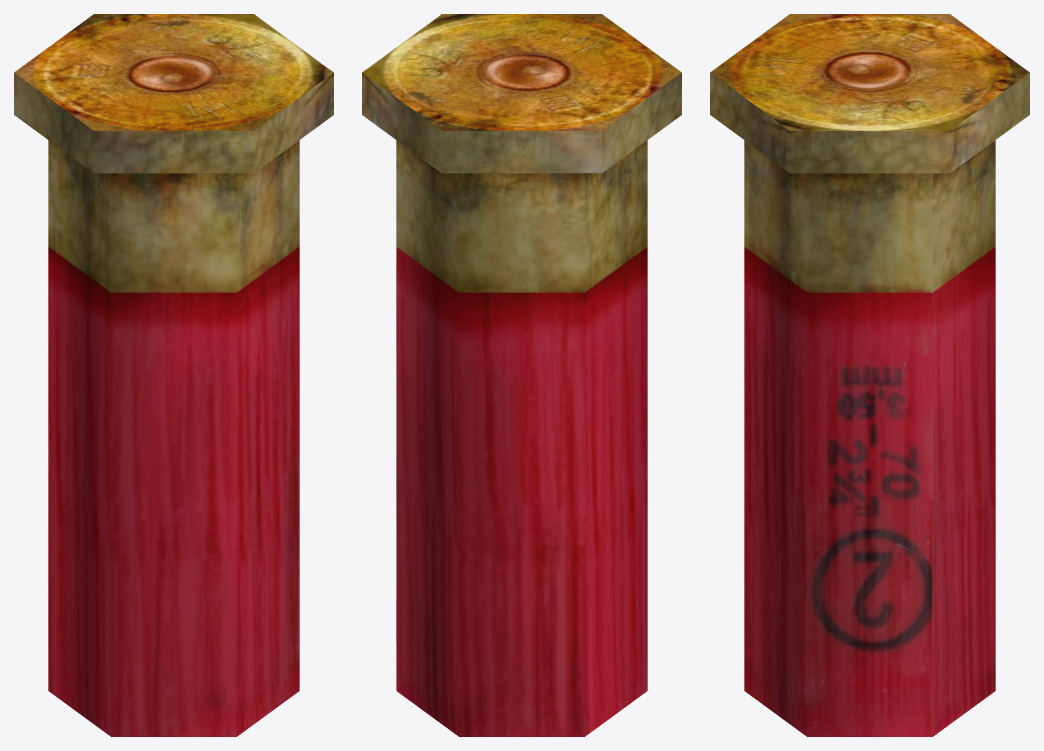
Rendered from shell.fbx.
The picture shows the model from 3 angles, left to right: view 1: azimuth 30°, elevation 25°; view 2: azimuth 150°, elevation 25°; view 3: azimuth 270°, elevation 25°; orthographic projection.
Visible parts, largest first — view 1: Circle; view 2: Circle; view 3: Circle.
Boxes of the visible parts, <box> form: Circle: <box>14,14,333,736</box>; Circle: <box>362,14,681,736</box>; Circle: <box>710,14,1029,736</box>.
Size of the model in its own units: 221 by 544 by 255.
Materials: 1 (1 with a texture image).
